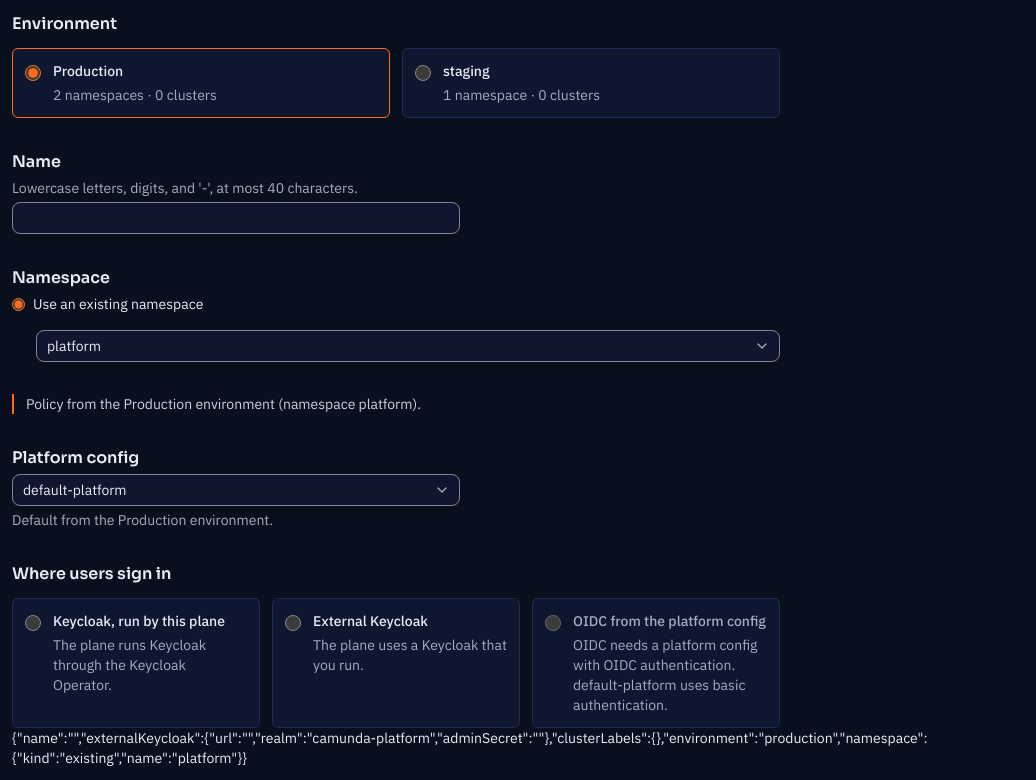
Scenario: PlaneBasicsStep › keeps the pick of another platform config in the draft
Select "oidc-platform" in the dropdown labelled "Platform config": (236, 490) [12,474,460,506]
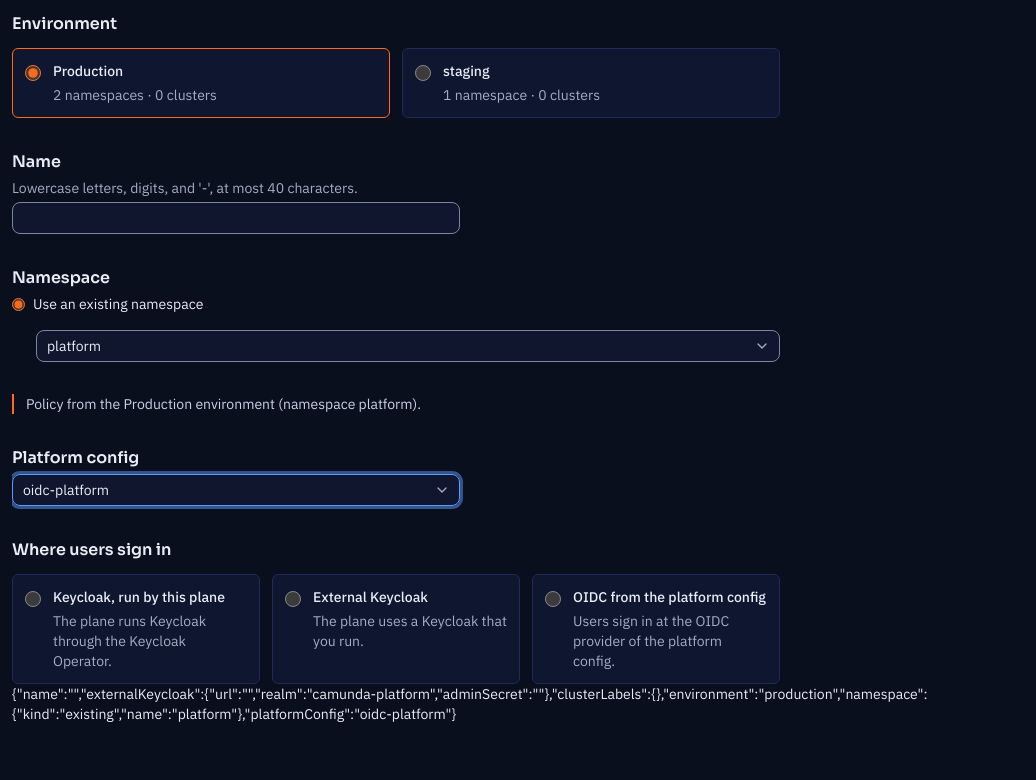
Now the text "Default from" is gone
